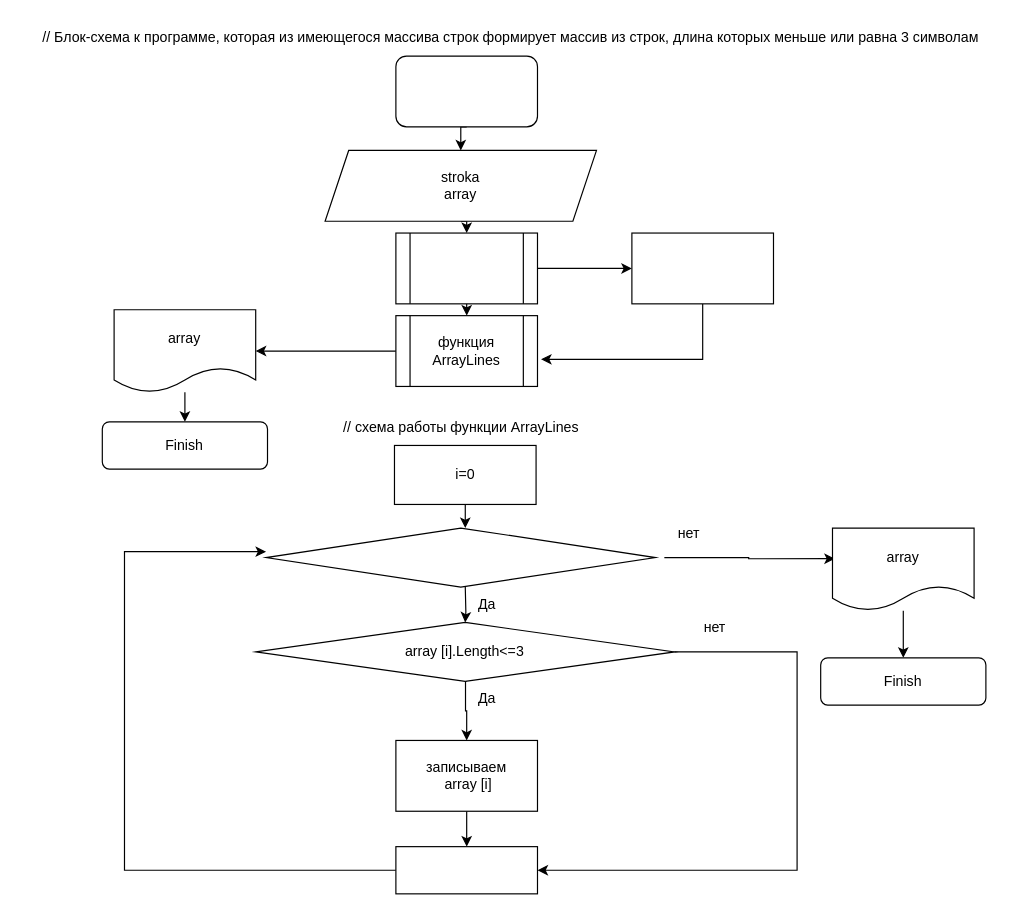
Some shapes in this 1020 by 914 pixel diagram are drawn without their labels. Here are the shapes that lost their labels. From the top down, the box of each, then its label:
(395, 55, 537, 127): Start
(395, 232, 537, 304): системная функция String.Split
(631, 232, 773, 304): array=stroka.Split
(265, 527, 655, 587): i< array.Length
(395, 845, 537, 894): i= i+1
